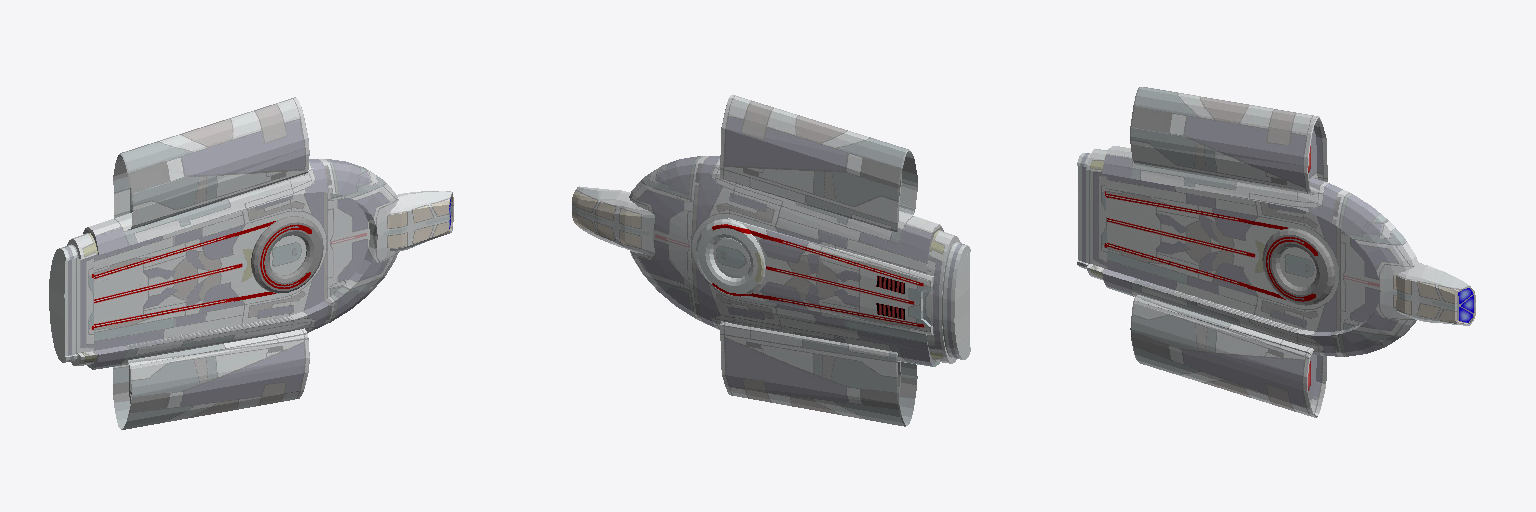
3 views of the same model, side by side, from view 1: azimuth 30°, elevation 25°; view 2: azimuth 150°, elevation 25°; view 3: azimuth 330°, elevation 25° (orthographic).
Visible parts, largest first — view 1: Sphere002, Cylinde_3_, Cylinde_2_, Torus002, Cylinde_1_, Sphere003, Sphere001; view 2: Sphere002, Cylinde_3_, Cylinde_2_, Cylinder00, Cylinde_1_, Torus001, Sphere003, Sphere001; view 3: Sphere002, Cylinde_3_, Cylinde_2_, Cylinde_1_, Torus002, Sphere001, Sphere003.
Boxes of the visible parts, x1=… form: Sphere002: x1=83, y1=159, x2=398, y2=369; Cylinde_3_: x1=113, y1=97, x2=309, y2=229; Cylinde_2_: x1=113, y1=328, x2=309, y2=429; Torus002: x1=251, y1=216, x2=323, y2=293; Cylinde_1_: x1=389, y1=191, x2=453, y2=251; Sphere003: x1=49, y1=244, x2=78, y2=362; Sphere001: x1=67, y1=233, x2=97, y2=365; Sphere002: x1=629, y1=156, x2=943, y2=366; Cylinde_3_: x1=720, y1=95, x2=917, y2=231; Cylinde_2_: x1=720, y1=321, x2=917, y2=426; Cylinder00: x1=727, y1=218, x2=933, y2=334; Cylinde_1_: x1=572, y1=186, x2=654, y2=255; Torus001: x1=696, y1=219, x2=765, y2=296; Sphere003: x1=942, y1=242, x2=970, y2=359; Sphere001: x1=923, y1=230, x2=960, y2=363; Sphere002: x1=1102, y1=146, x2=1418, y2=356; Cylinde_3_: x1=1130, y1=87, x2=1327, y2=194; Cylinde_2_: x1=1130, y1=295, x2=1326, y2=417; Cylinde_1_: x1=1396, y1=263, x2=1475, y2=325; Torus002: x1=1262, y1=228, x2=1334, y2=305; Sphere001: x1=1086, y1=149, x2=1107, y2=280; Sphere003: x1=1077, y1=153, x2=1090, y2=268.
Size of the model in its own units: 177 by 129 by 21.04.
Materials: 1 (1 with a texture image).